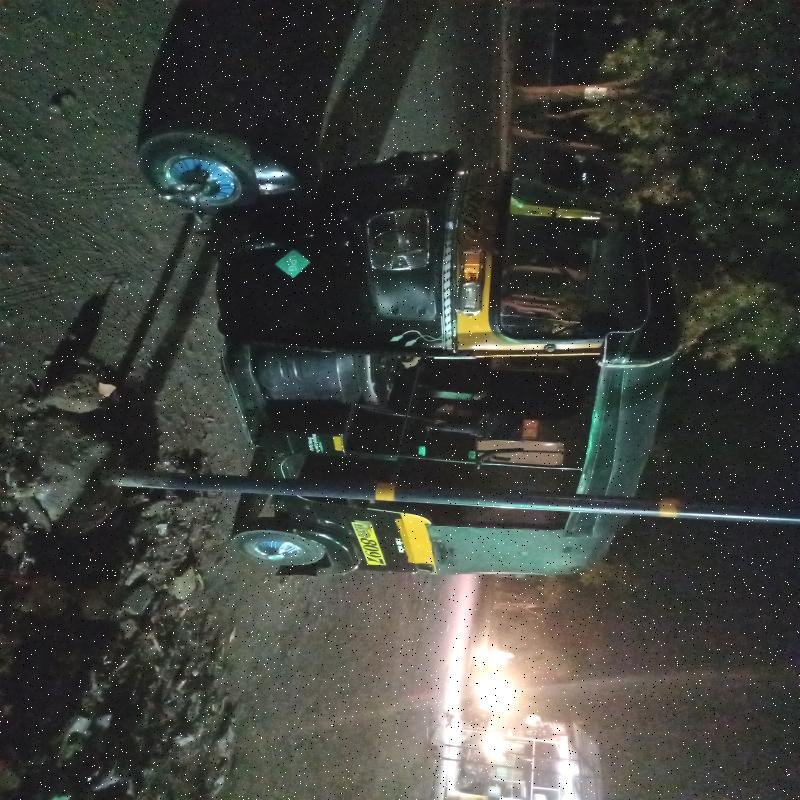auto: (161, 136, 648, 569)
